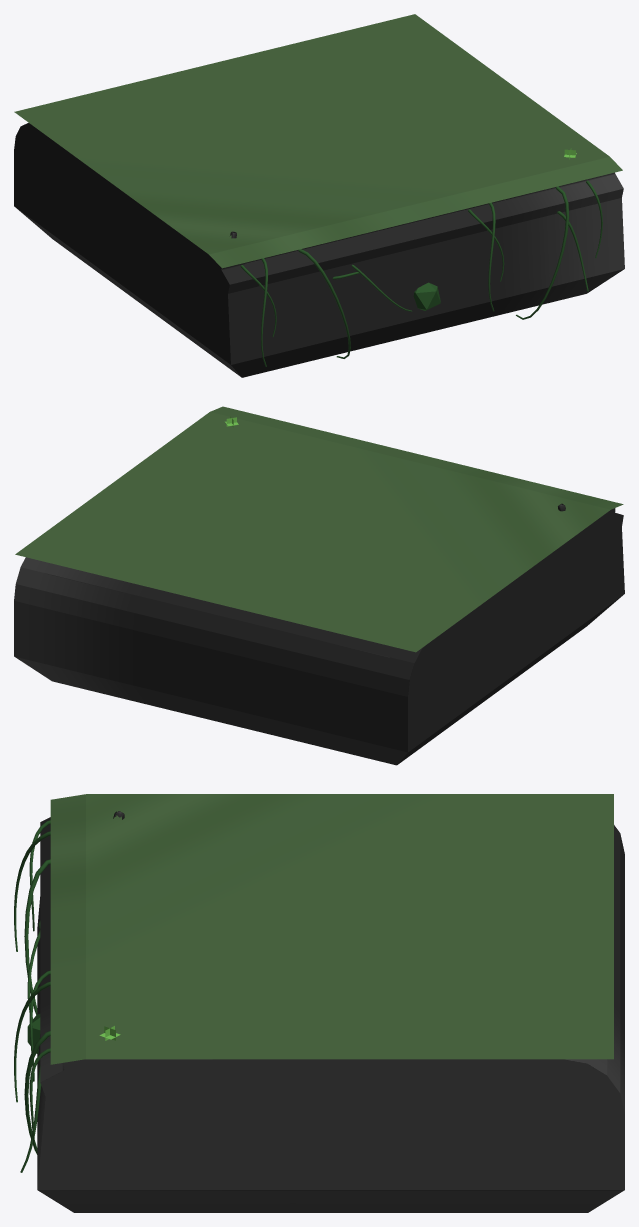
The model's file is platform.fbx.
3 views of the same model, one above another, from view 1: azimuth 30°, elevation 25°; view 2: azimuth 150°, elevation 25°; view 3: azimuth 270°, elevation 25° (orthographic). The views are drawn at different scales.
Visible parts, largest first — view 1: Cube.008, Icosphere; view 2: Cube.008; view 3: Cube.008.
Boxes of the visible parts, x1,y1,x2,y2 form: Cube.008: (14,14,624,377); Icosphere: (413,282,440,310); Cube.008: (14,406,624,765); Cube.008: (14,794,624,1212).
Bounding box in the file's own units: 1194 × 401 × 1163.
